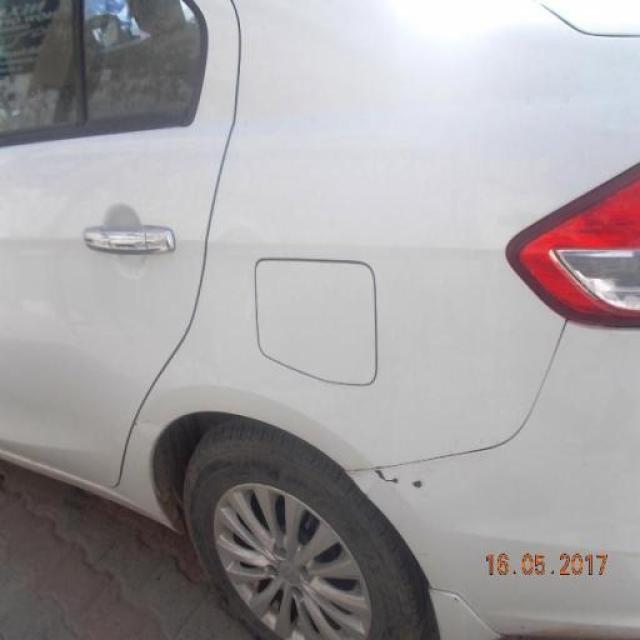scratch: (374, 468, 397, 490), (410, 473, 422, 499)
